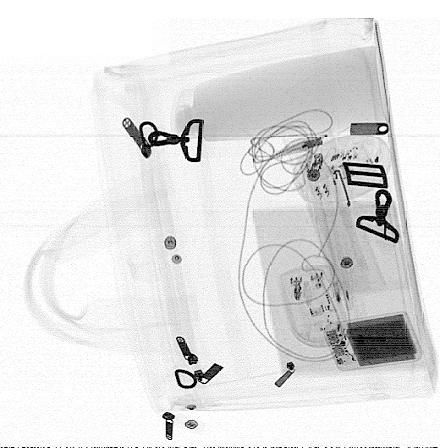Powerbank: (323, 310, 425, 373)
